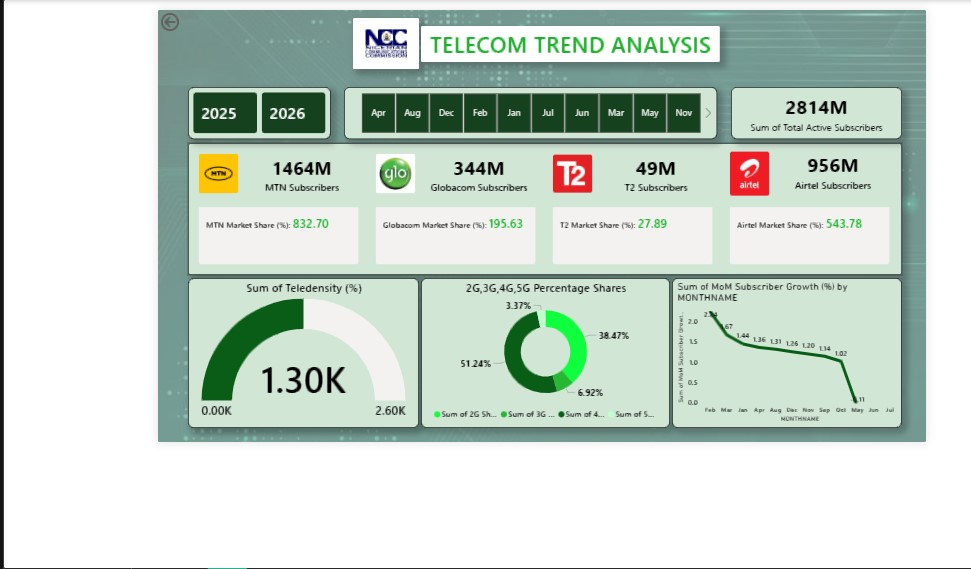

The dashboard page shown, as its layout file describes it:
{"tool":"powerbi","page":{"name":"Page 1","canvas":[1280,720],"ordinal":0},"visuals":[{"type":"cardVisual","fields":{"Data":["Sum(SUBSCRIBER DATASET.MTN Subscribers)","Sum(SUBSCRIBER DATASET.Globacom Subscribers)","Sum(SUBSCRIBER DATASET.T2 Subscribers)","Sum(SUBSCRIBER DATASET.Airtel Subscribers)"]},"box":[50,221.7,1190,220],"z":0},{"type":"actionButton","box":[0,0,100,40],"z":1000},{"type":"gauge","fields":{"Y":["Sum(SUBSCRIBER DATASET.Teledensity (%))"]},"box":[50,446.7,385,250],"z":2000},{"type":"donutChart","title":"2G,3G,4G,5G Percentage Shares","fields":{"Y":["Sum(SUBSCRIBER DATASET.2G Share (%))","Sum(SUBSCRIBER DATASET.3G Share (%))","Sum(SUBSCRIBER DATASET.4G Share (%))","Sum(SUBSCRIBER DATASET.5G Share (%))"]},"box":[438.3,446.7,415,250],"z":3000},{"type":"image","box":[325,13.1,110,85],"z":4000},{"type":"advancedSlicerVisual","fields":{"Values":["CALENDAR TABLE.YEAR"]},"box":[50,128.3,238.3,86.7],"z":5000},{"type":"card","fields":{"Values":["Sum(SUBSCRIBER DATASET.Total Active Subscribers)"]},"box":[955,128.3,285,86.7],"z":6000},{"type":"textbox","box":[438.3,26.4,498.3,60],"z":7000},{"type":"lineChart","fields":{"Category":["CALENDAR TABLE.MONTHNAME"],"Y":["Sum(SUBSCRIBER DATASET.MoM Subscriber Growth (%))"]},"box":[856.7,446.7,383.3,250],"z":8000},{"type":"slicer","fields":{"Values":["CALENDAR TABLE.MONTHNAME"]},"box":[310.8,128.3,621.7,86.7],"z":8001}]}

Visuals, with their boxes on the page's 1280x720 design canvas (x1, y1, x2, y2). These are canvas units, not pixel positions in the 971x569 screenshot, which may show the page scaled, cropped or inside an application window:
cardVisual - Sum(SUBSCRIBER DATASET.MTN Subscribers) x Sum(SUBSCRIBER DATASET.Globacom Subscribers): x1=50 y1=222 x2=1240 y2=442
actionButton: x1=0 y1=0 x2=100 y2=40
gauge - Sum(SUBSCRIBER DATASET.Teledensity (%)): x1=50 y1=447 x2=435 y2=697
"2G,3G,4G,5G Percentage Shares" donutChart: x1=438 y1=447 x2=853 y2=697
image: x1=325 y1=13 x2=435 y2=98
advancedSlicerVisual - CALENDAR TABLE.YEAR: x1=50 y1=128 x2=288 y2=215
card - Sum(SUBSCRIBER DATASET.Total Active Subscribers): x1=955 y1=128 x2=1240 y2=215
textbox: x1=438 y1=26 x2=937 y2=86
lineChart - CALENDAR TABLE.MONTHNAME x Sum(SUBSCRIBER DATASET.MoM Subscriber Growth (%)): x1=857 y1=447 x2=1240 y2=697
slicer - CALENDAR TABLE.MONTHNAME: x1=311 y1=128 x2=932 y2=215
